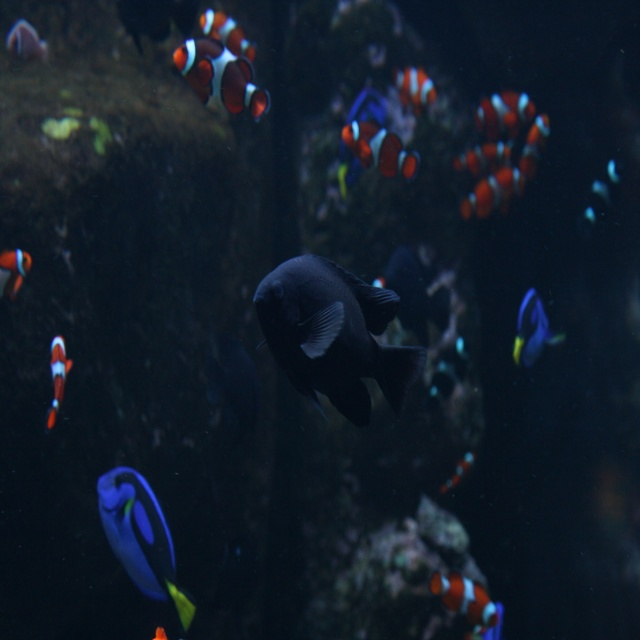Fish: (253, 245, 433, 442), (94, 471, 197, 631), (174, 38, 271, 120), (337, 82, 399, 184), (337, 121, 424, 181), (513, 285, 566, 372), (430, 575, 498, 638), (580, 157, 632, 226), (463, 165, 518, 223), (46, 334, 78, 433), (198, 8, 256, 60), (522, 113, 550, 202), (0, 249, 32, 321), (480, 92, 537, 130), (10, 19, 52, 65), (396, 65, 437, 108), (453, 143, 505, 174), (442, 448, 476, 493), (484, 603, 502, 638)
